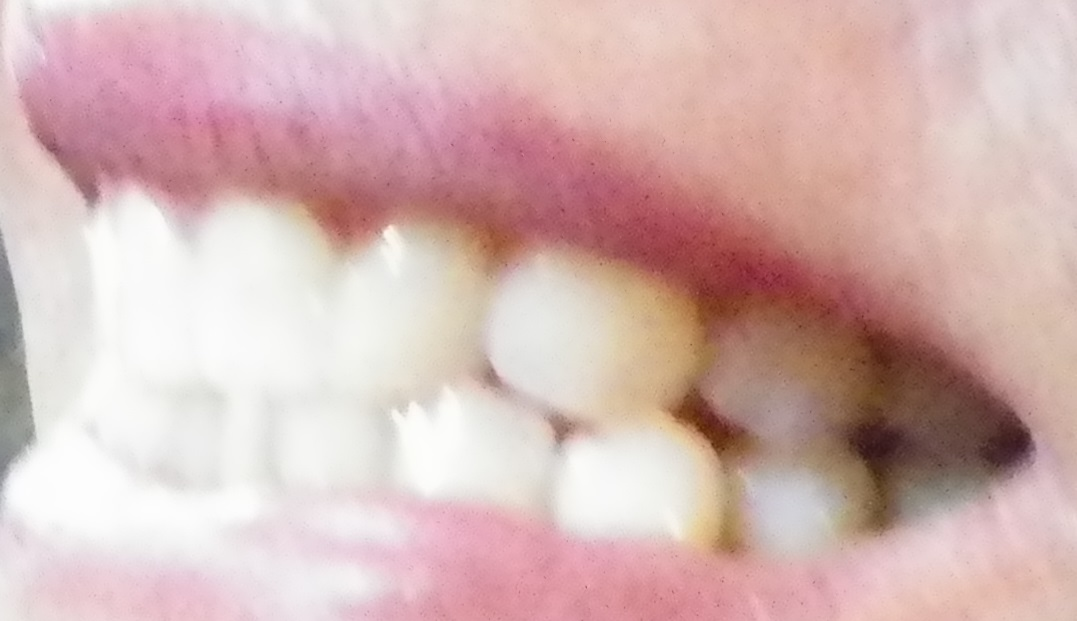boca: (77, 197, 921, 550)
